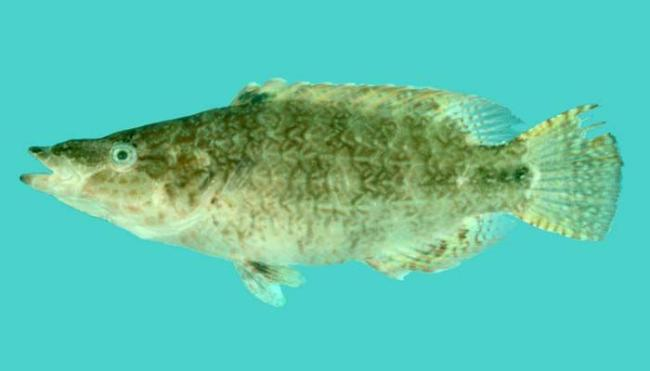fish: (19, 78, 624, 307)
